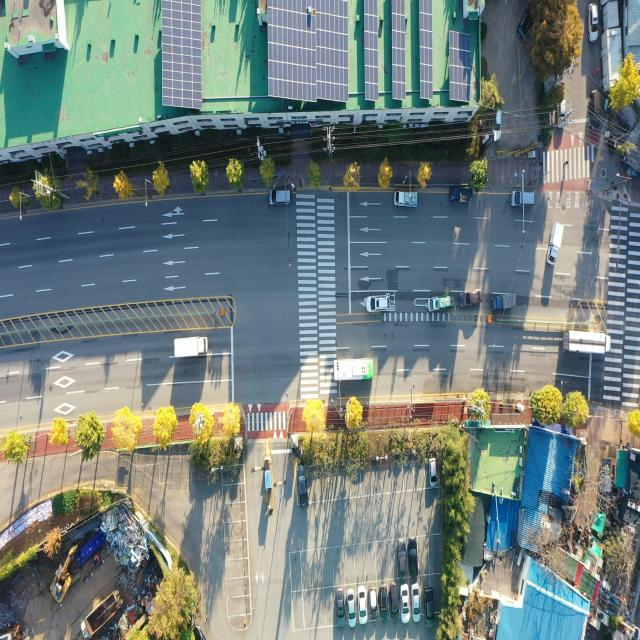car: (297, 464, 309, 509), (519, 3, 533, 38), (397, 540, 408, 584), (588, 91, 600, 130), (410, 538, 420, 578), (590, 5, 600, 44), (271, 188, 293, 205), (510, 189, 532, 206), (367, 295, 390, 311), (425, 586, 434, 625), (390, 582, 399, 621), (358, 586, 367, 624), (348, 589, 357, 626), (413, 584, 422, 621), (400, 585, 409, 622), (337, 590, 346, 627), (380, 588, 390, 618), (494, 108, 503, 141), (368, 585, 377, 618), (458, 291, 474, 307), (430, 456, 438, 486), (559, 102, 567, 132)
large_bus: (332, 358, 377, 384)
medium_truck: (76, 585, 126, 640), (565, 331, 610, 357), (173, 338, 209, 360)
small_truck: (549, 221, 565, 264), (601, 456, 613, 495), (396, 192, 421, 210), (488, 293, 512, 311), (428, 294, 452, 311), (450, 186, 472, 203)
